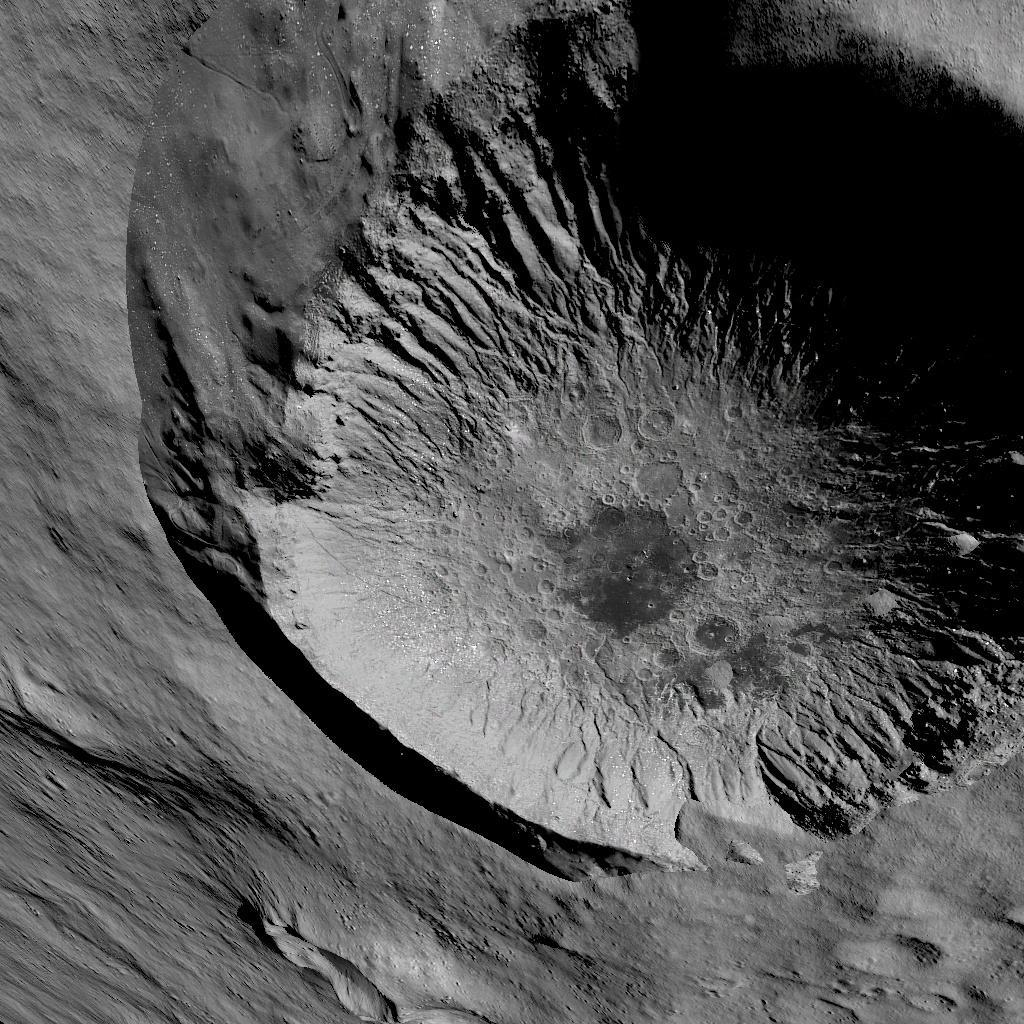Crater: (112, 2, 1023, 892), (206, 912, 404, 1024)
Plan surface: (480, 917, 1024, 1024)
